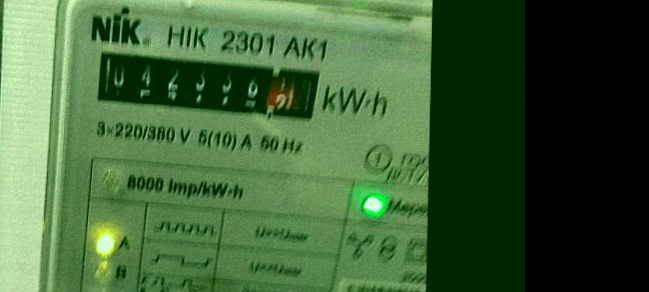0: (111, 60, 125, 90)
2: (163, 64, 182, 91)
3: (190, 64, 207, 94), (219, 66, 234, 94)
4: (137, 62, 154, 89)
6: (244, 72, 260, 100)
screen: (86, 43, 327, 129)
